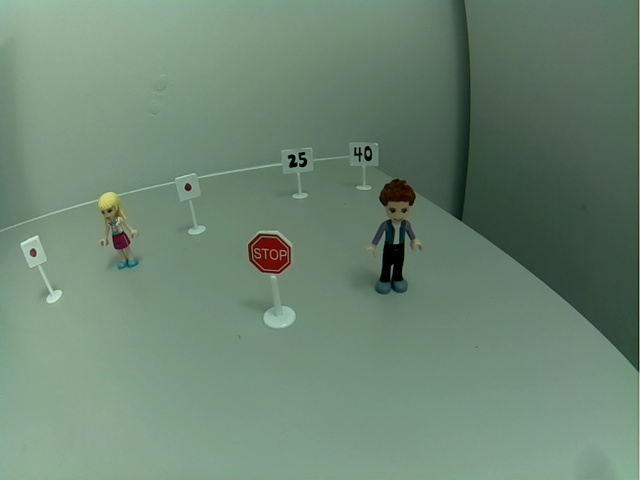people: (363, 175, 424, 301), (94, 192, 147, 271)
red light: (19, 236, 50, 269), (172, 172, 204, 202)
speed 25: (281, 146, 315, 175)
speed 40: (347, 141, 380, 167)
stop: (245, 229, 295, 276)
